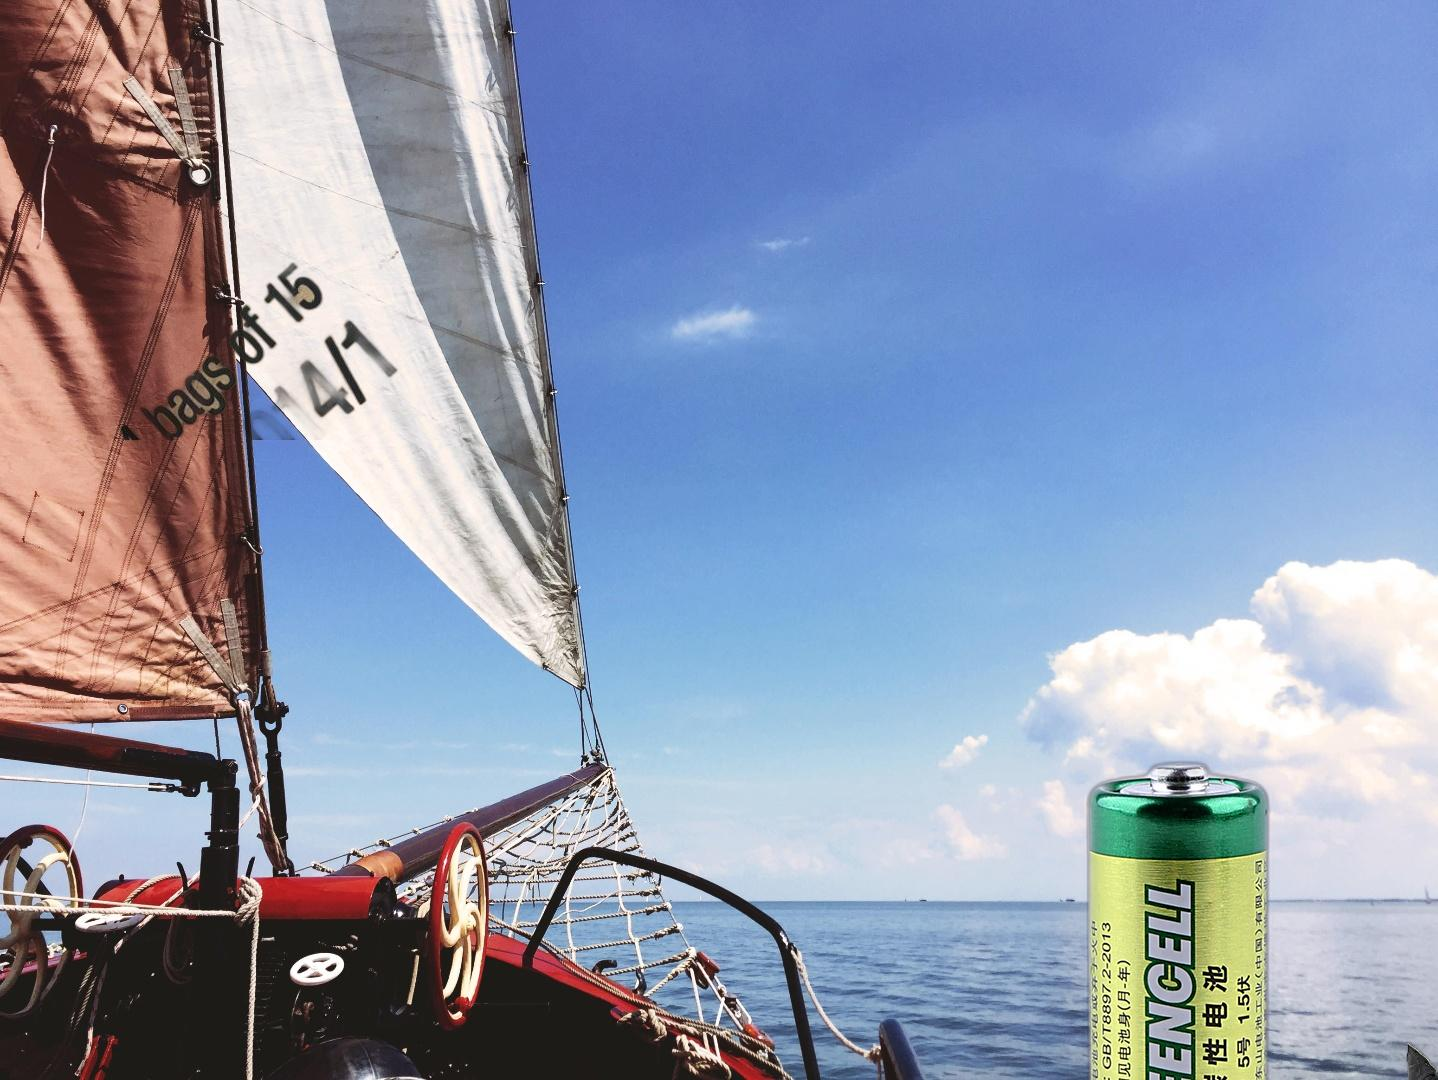battery: (1080, 757, 1276, 1080)
shoes: (1393, 1035, 1438, 1080)
trashbox-cardboard: (87, 260, 401, 440)
